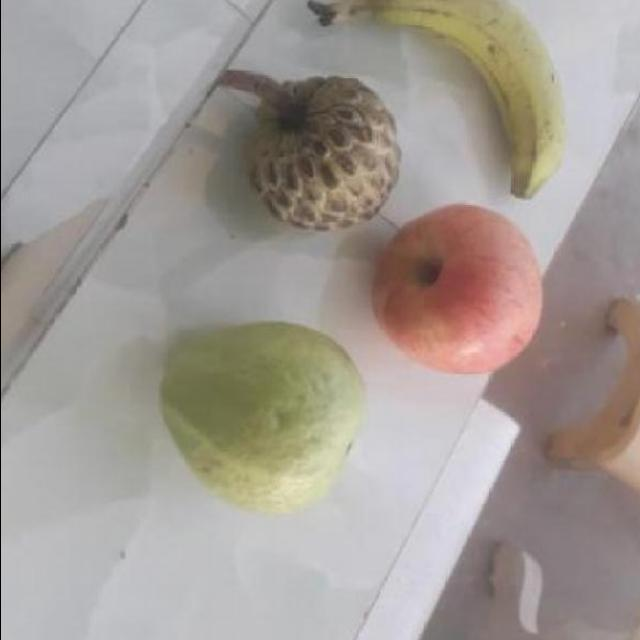apple: (369, 198, 542, 386)
banana: (326, 0, 568, 214)
guava: (160, 324, 358, 526)
sugar apple: (236, 72, 404, 238)
